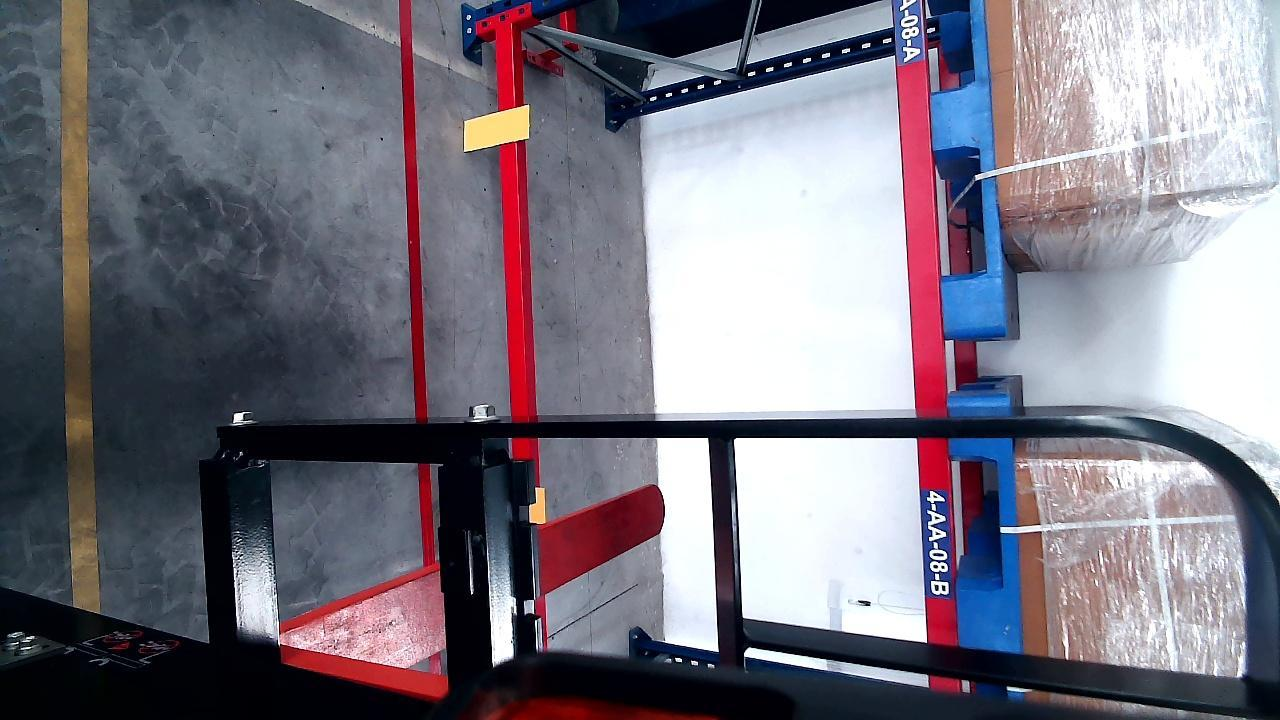red_line: (398, 0, 431, 419)
yellow_line: (59, 0, 99, 614)
